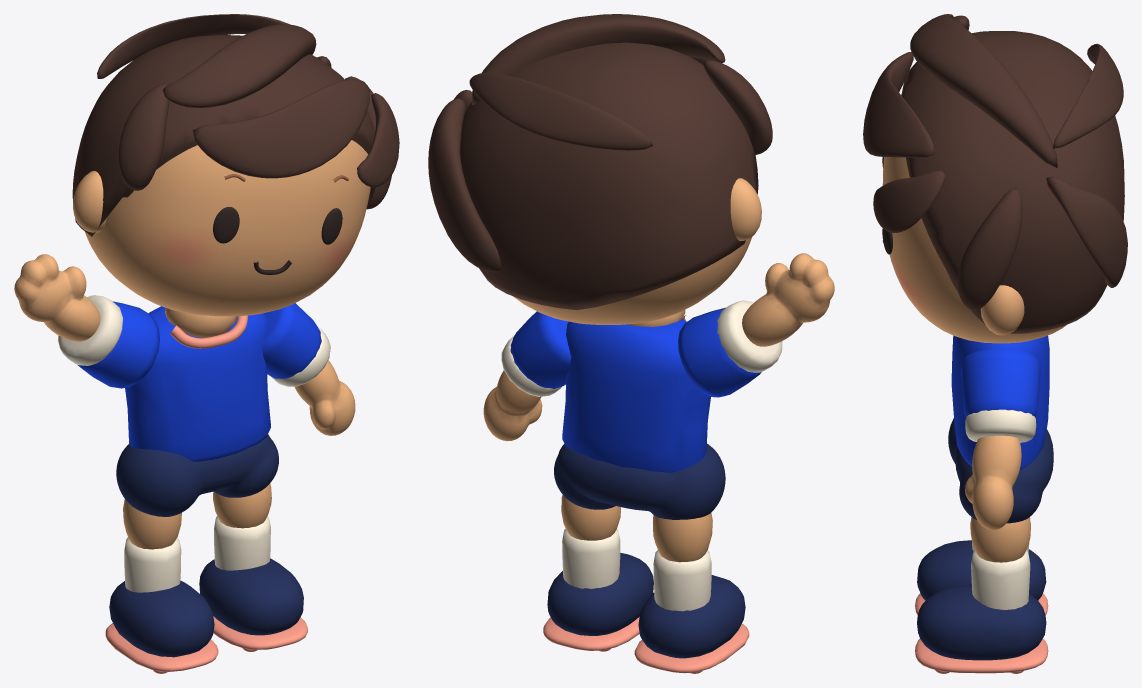
File: kawaii-player.glb
The picture shows the model from 3 angles, left to right: view 1: azimuth 30°, elevation 25°; view 2: azimuth 150°, elevation 25°; view 3: azimuth 270°, elevation 25°; orthographic projection. The views are drawn at different scales.
Parts seen in each view (by area): view 1: Head sculpt, Soft jersey torso, Close-fitting rounded hair cap, Sculpted main swept fringe, Soft shorts with asymmetric hems, Rounded crown sweep, Left boot, Standing rounded boot, Waving arm and open mitten hand, Left temple soft lock, Rear crown flow, Left rounded sleeve (+16 smaller); view 2: Close-fitting rounded hair cap, Soft jersey torso, Soft shorts with asymmetric hems, Rear crown flow, Rounded crown sweep, Rear right flow, Waving arm and open mitten hand, Left boot, Standing rounded boot, Head sculpt, Left rounded sleeve, Right rounded sleeve (+11 smaller); view 3: Close-fitting rounded hair cap, Rounded crown sweep, Standing rounded boot, Head sculpt, Right rounded sleeve, Right temple round lock, Sculpted main swept fringe, Rear right flow, Lower arm and soft hand, Soft jersey torso, Rear crown flow, Left boot (+7 smaller).
Part boxes in pixels (bbox=[...]): Head sculpt: bbox=[85, 140, 370, 316]; Soft jersey torso: bbox=[125, 306, 270, 461]; Close-fitting rounded hair cap: bbox=[72, 35, 375, 236]; Sculpted main swept fringe: bbox=[193, 79, 369, 178]; Soft shorts with asymmetric hems: bbox=[116, 434, 278, 516]; Rounded crown sweep: bbox=[162, 24, 316, 107]; Left boot: bbox=[109, 580, 214, 657]; Standing rounded boot: bbox=[199, 558, 303, 635]; Waving arm and open mitten hand: bbox=[14, 254, 100, 341]; Left temple soft lock: bbox=[118, 84, 169, 190]; Rear crown flow: bbox=[97, 14, 289, 78]; Left rounded sleeve: bbox=[78, 301, 159, 388]; Close-fitting rounded hair cap: bbox=[460, 42, 758, 309]; Soft jersey torso: bbox=[562, 319, 710, 472]; Soft shorts with asymmetric hems: bbox=[554, 443, 725, 519]; Rear crown flow: bbox=[469, 73, 652, 150]; Rounded crown sweep: bbox=[472, 14, 725, 104]; Rear right flow: bbox=[428, 98, 501, 272]; Waving arm and open mitten hand: bbox=[742, 253, 834, 346]; Left boot: bbox=[638, 575, 745, 658]; Standing rounded boot: bbox=[547, 553, 653, 635]; Head sculpt: bbox=[513, 237, 751, 324]; Left rounded sleeve: bbox=[678, 307, 761, 397]; Right rounded sleeve: bbox=[510, 311, 571, 388]; Close-fitting rounded hair cap: bbox=[901, 31, 1124, 333]; Rounded crown sweep: bbox=[910, 14, 1057, 168]; Standing rounded boot: bbox=[917, 585, 1046, 660]; Head sculpt: bbox=[882, 157, 1066, 343]; Right rounded sleeve: bbox=[960, 348, 1040, 417]; Right temple round lock: bbox=[957, 188, 1022, 310]; Sculpted main swept fringe: bbox=[863, 52, 934, 157]; Rear right flow: bbox=[1046, 176, 1127, 287]; Lower arm and soft hand: bbox=[965, 435, 1021, 529]; Soft jersey torso: bbox=[951, 335, 1049, 470]; Rear crown flow: bbox=[1052, 43, 1123, 148]; Left boot: bbox=[917, 540, 1046, 600].
Bounding box in the file's own units: 0.1159 × 0.1797 × 0.0696.
